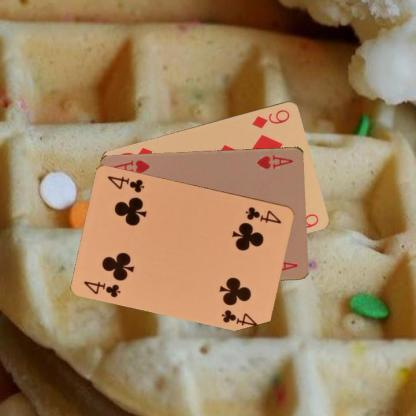4c: (243, 204, 283, 225), (82, 278, 122, 299)
9d: (250, 106, 291, 130)
Ah: (254, 152, 295, 170)
